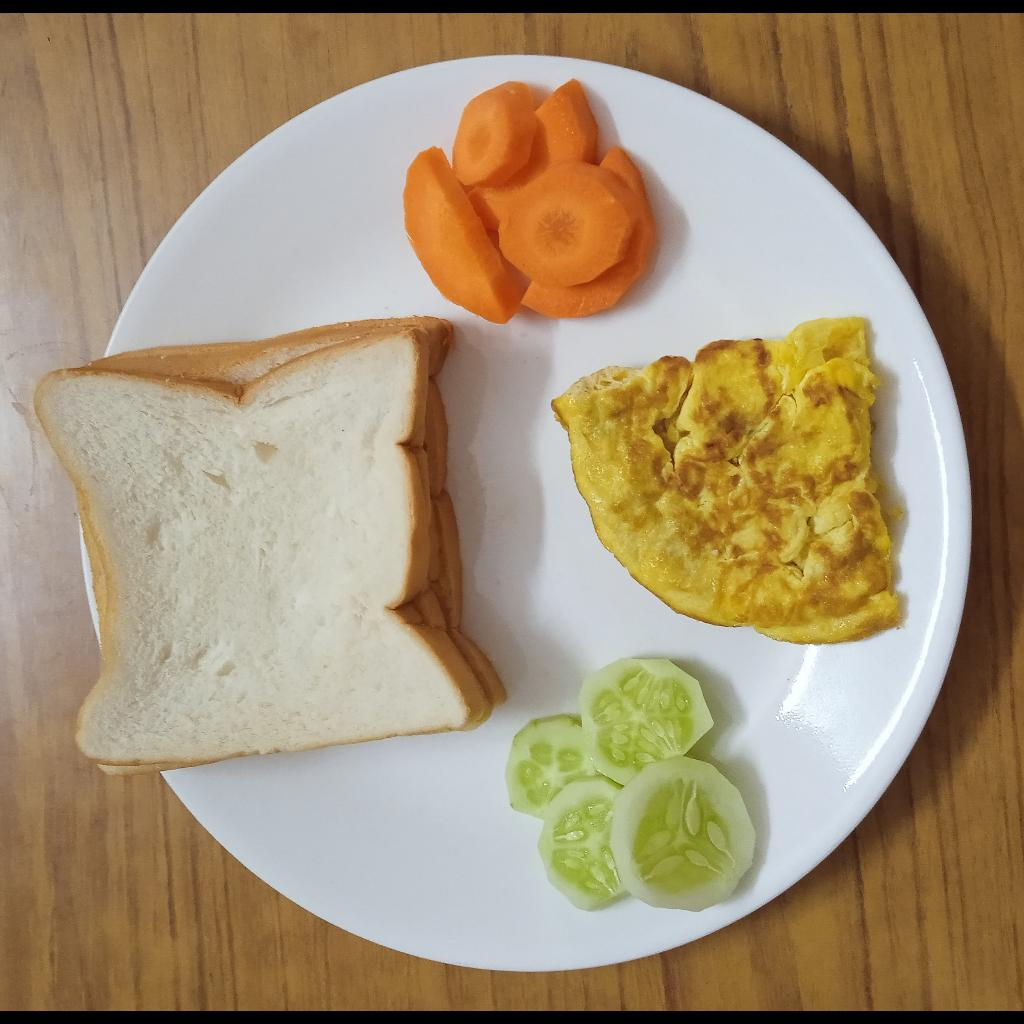bread: (34, 316, 510, 777)
carrot: (403, 79, 655, 324)
cucumber: (505, 658, 758, 913)
egg-poached: (552, 318, 904, 644)
